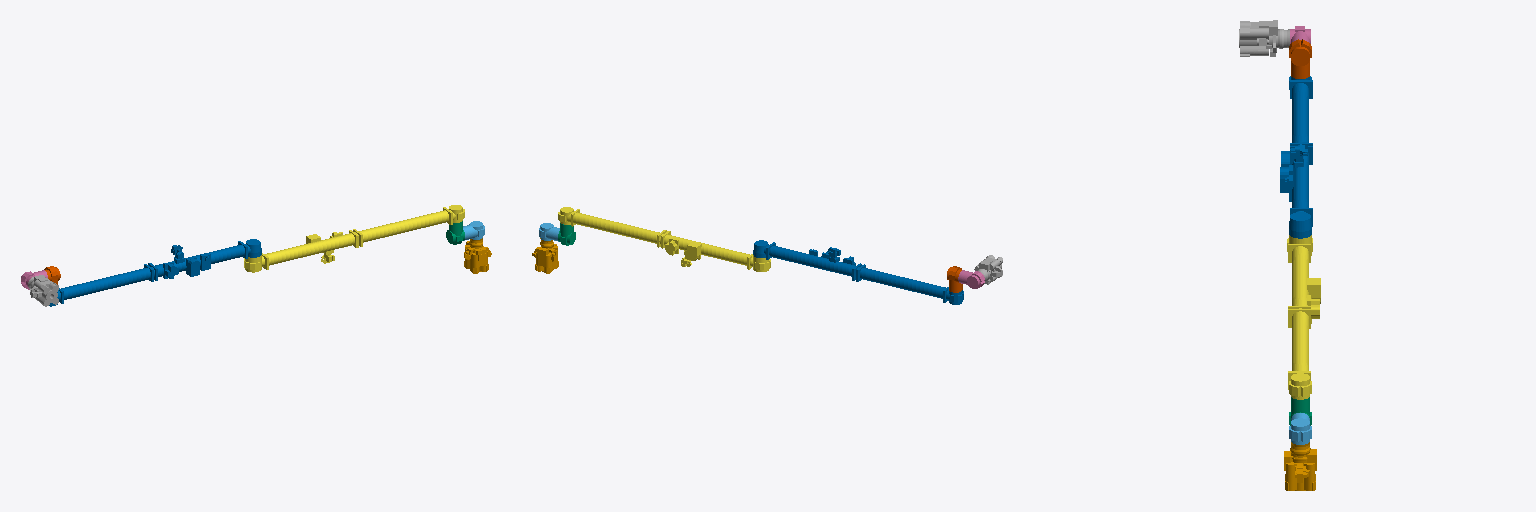
URDF robot description (CanadaArm2):
<?xml version="1.0" ?>
<robot name="CanadaArm2">

<!-- <material name="silver">
  <color rgba="0.700 0.700 0.700 1.000"/>
</material> -->

<link name="base_link">
  <inertial>
    <origin xyz="0.0009130959925412204 0.0006901136348603008 0.048208102763051236" rpy="0 0 0"/>
    <mass value="0.4237059895243373"/>
    <inertia ixx="0.0004092558945447719" iyy="0.00038404682501675465" izz="0.00020498064476976336" ixy="1.0165623829686665e-06" iyz="-4.948051807267175e-06" ixz="5.252636199371172e-06"/>
  </inertial>
  <visual>
    <origin xyz="0 0 0" rpy="0 0 0"/>
    <geometry>
      <mesh filename="meshes/base_link.obj" scale="0.001 0.001 0.001"/>
    </geometry>
    <!-- <material name="silver"/>
    <material/> -->
  </visual>
  <collision>
    <origin xyz="0 0 0" rpy="0 0 0"/>
    <geometry>
      <mesh filename="meshes/base_link.obj" scale="0.001 0.001 0.001"/>
    </geometry>
  </collision>
</link>

<link name="link_11">
  <inertial>
    <origin xyz="-0.012022080753456956 4.504438460746928e-06 0.021223287586985842" rpy="0 0 0"/>
    <mass value="0.15579058238581803"/>
    <inertia ixx="3.953363265274531e-05" iyy="8.371424973176991e-05" izz="8.6186782326062e-05" ixy="-1.0861613912698858e-07" iyz="4.379138446979421e-08" ixz="1.0201639682170562e-07"/>
  </inertial>
  <visual>
    <origin xyz="0.0 0.0 -0.109328" rpy="0 0 0"/>
    <geometry>
      <mesh filename="meshes/link_11.obj" scale="0.001 0.001 0.001"/>
    </geometry>
    <!-- <material name="silver"/>
    <material/> -->
  </visual>
  <collision>
    <origin xyz="0.0 0.0 -0.109328" rpy="0 0 0"/>
    <geometry>
      <mesh filename="meshes/link_11.obj" scale="0.001 0.001 0.001"/>
    </geometry>
  </collision>
</link>

<link name="link_21">
  <inertial>
    <origin xyz="-0.0212722329621534 -9.563785822951881e-07 0.012022116937095928" rpy="0 0 0"/>
    <mass value="0.15579021759009612"/>
    <inertia ixx="8.648943169675899e-05" iyy="8.429241934648085e-05" izz="3.9871128569710134e-05" ixy="1.9888566181498303e-08" iyz="4.4424194576562314e-09" ixz="-1.110155253675714e-07"/>
  </inertial>
  <visual>
    <origin xyz="0.050762 0.0 -0.130583" rpy="0 0 0"/>
    <geometry>
      <mesh filename="meshes/link_21.obj" scale="0.001 0.001 0.001"/>
    </geometry>
    <!-- <material name="silver"/>
    <material/> -->
  </visual>
  <collision>
    <origin xyz="0.050762 0.0 -0.130583" rpy="0 0 0"/>
    <geometry>
      <mesh filename="meshes/link_21.obj" scale="0.001 0.001 0.001"/>
    </geometry>
  </collision>
</link>

<link name="link_31">
  <inertial>
    <origin xyz="-0.3749592721242768 0.002167756136316175 0.020769052806213523" rpy="0 0 0"/>
    <mass value="1.342026213015195"/>
    <inertia ixx="0.0002589122773568181" iyy="0.06733252361597064" izz="0.06717431030885213" ixy="0.00018694044664734608" iyz="4.2211290964140266e-05" ixz="0.00020571069959553212"/>
  </inertial>
  <visual>
    <origin xyz="0.072005 0.0 -0.181344" rpy="0 0 0"/>
    <geometry>
      <mesh filename="meshes/link_31.obj" scale="0.001 0.001 0.001"/>
    </geometry>
    <!-- <material name="silver"/>
    <material/> -->
  </visual>
  <collision>
    <origin xyz="0.072005 0.0 -0.181344" rpy="0 0 0"/>
    <geometry>
      <mesh filename="meshes/link_31.obj" scale="0.001 0.001 0.001"/>
    </geometry>
  </collision>
</link>

<link name="link_41">
  <inertial>
    <origin xyz="-0.34102429216742425 -0.0024875618163693954 0.022823592324091285" rpy="0 0 0"/>
    <mass value="1.3047791025053486"/>
    <inertia ixx="0.0005005819746586454" iyy="0.06098802088277111" izz="0.06111706243026238" ixy="0.0003290206609817877" iyz="-1.2463562465362039e-05" ixz="-7.483793257567761e-05"/>
  </inertial>
  <visual>
    <origin xyz="0.775703 -1.6e-05 -0.232005" rpy="0 0 0"/>
    <geometry>
      <mesh filename="meshes/link_41.obj" scale="0.001 0.001 0.001"/>
    </geometry>
    <!-- <material name="silver"/>
    <material/> -->
  </visual>
  <collision>
    <origin xyz="0.775703 -1.6e-05 -0.232005" rpy="0 0 0"/>
    <geometry>
      <mesh filename="meshes/link_41.obj" scale="0.001 0.001 0.001"/>
    </geometry>
  </collision>
</link>

<link name="link_51">
  <inertial>
    <origin xyz="2.9454009316642882e-05 -5.2291701487376e-06 0.0387351142341712" rpy="0 0 0"/>
    <mass value="0.15576553227829482"/>
    <inertia ixx="8.227001568061366e-05" iyy="7.603788598981032e-05" izz="3.561108290406345e-05" ixy="2.1739266745471905e-07" iyz="5.310540229706253e-07" ixz="-7.962361346647295e-08"/>
  </inertial>
  <visual>
    <origin xyz="1.479425 -1.6e-05 -0.274942" rpy="0 0 0"/>
    <geometry>
      <mesh filename="meshes/link_51.obj" scale="0.001 0.001 0.001"/>
    </geometry>
    <!-- <material name="silver"/>
    <material/> -->
  </visual>
  <collision>
    <origin xyz="1.479425 -1.6e-05 -0.274942" rpy="0 0 0"/>
    <geometry>
      <mesh filename="meshes/link_51.obj" scale="0.001 0.001 0.001"/>
    </geometry>
  </collision>
</link>

<link name="link_61">
  <inertial>
    <origin xyz="-0.03871469375007819 4.616231212433191e-05 2.3531261986620144e-05" rpy="0 0 0"/>
    <mass value="0.15575461112408165"/>
    <inertia ixx="6.80786724601562e-05" iyy="0.00013769812830949357" izz="0.00011250739279045074" ixy="-4.997630556600001e-06" iyz="-4.777732048404048e-06" ixz="-1.2882027089627934e-06"/>
  </inertial>
  <visual>
    <origin xyz="1.500669 -1.6e-05 -0.325704" rpy="0 0 0"/>
    <geometry>
      <mesh filename="meshes/link_61.obj" scale="0.001 0.001 0.001"/>
    </geometry>
    <!-- <material name="silver"/>
    <material/> -->
  </visual>
  <collision>
    <origin xyz="1.500669 -1.6e-05 -0.325704" rpy="0 0 0"/>
    <geometry>
      <mesh filename="meshes/link_61.obj" scale="0.001 0.001 0.001"/>
    </geometry>
  </collision>
</link>

<link name="link_71">
  <inertial>
    <origin xyz="-0.0009163908926697051 -0.06112025146618943 0.000688272549077884" rpy="0 0 0"/>
    <mass value="0.4237362876419118"/>
    <inertia ixx="0.0004086266635229194" iyy="0.00020387938058230581" izz="0.0003835310833186778" ixy="-5.194200628555468e-06" iyz="-4.93113862320288e-06" ixz="-1.0191638754875054e-06"/>
  </inertial>
  <visual>
    <origin xyz="1.55143 0.021239 -0.325704" rpy="0 0 0"/>
    <geometry>
      <mesh filename="meshes/link_71.obj" scale="0.001 0.001 0.001"/>
    </geometry>
    <!-- <material name="silver"/>
    <material/> -->
  </visual>
  <collision>
    <origin xyz="1.55143 0.021239 -0.325704" rpy="0 0 0"/>
    <geometry>
      <mesh filename="meshes/link_71.obj" scale="0.001 0.001 0.001"/>
    </geometry>
  </collision>
</link>

<joint name="joint_1" type="revolute">
  <origin xyz="0.0 0.0 0.109328" rpy="0 0 0"/>
  <parent link="base_link"/>
  <child link="link_11"/>
  <axis xyz="-0.0 0.0 -1.0"/>
  <limit upper="6.283185" lower="0.0" effort="100" velocity="100"/>
</joint>
<transmission name="joint_1_tran">
  <type>transmission_interface/SimpleTransmission</type>
  <joint name="joint_1">
    <hardwareInterface>PositionJointInterface</hardwareInterface>
  </joint>
  <actuator name="joint_1_actr">
    <hardwareInterface>PositionJointInterface</hardwareInterface>
    <mechanicalReduction>1</mechanicalReduction>
  </actuator>
</transmission>

<joint name="joint_2" type="revolute">
  <origin xyz="-0.050762 0.0 0.021255" rpy="0 0 0"/>
  <parent link="link_11"/>
  <child link="link_21"/>
  <axis xyz="-1.0 0.0 0.0"/>
  <limit upper="6.283185" lower="0.0" effort="100" velocity="100"/>
</joint>
<transmission name="joint_2_tran">
  <type>transmission_interface/SimpleTransmission</type>
  <joint name="joint_2">
    <hardwareInterface>PositionJointInterface</hardwareInterface>
  </joint>
  <actuator name="joint_2_actr">
    <hardwareInterface>PositionJointInterface</hardwareInterface>
    <mechanicalReduction>1</mechanicalReduction>
  </actuator>
</transmission>

<joint name="joint_3" type="revolute">
  <origin xyz="-0.021243 0.0 0.050761" rpy="0 0 0"/>
  <parent link="link_21"/>
  <child link="link_31"/>
  <axis xyz="0.0 0.0 1.0"/>
  <limit upper="6.283185" lower="0.0" effort="100" velocity="100"/>
</joint>
<transmission name="joint_3_tran">
  <type>transmission_interface/SimpleTransmission</type>
  <joint name="joint_3">
    <hardwareInterface>PositionJointInterface</hardwareInterface>
  </joint>
  <actuator name="joint_3_actr">
    <hardwareInterface>PositionJointInterface</hardwareInterface>
    <mechanicalReduction>1</mechanicalReduction>
  </actuator>
</transmission>

<joint name="joint_4" type="revolute">
  <origin xyz="-0.703698 1.6e-05 0.050661" rpy="0 0 0"/>
  <parent link="link_31"/>
  <child link="link_41"/>
  <axis xyz="0.0 0.0 1.0"/>
  <limit upper="6.283185" lower="0.0" effort="100" velocity="100"/>
</joint>
<transmission name="joint_4_tran">
  <type>transmission_interface/SimpleTransmission</type>
  <joint name="joint_4">
    <hardwareInterface>PositionJointInterface</hardwareInterface>
  </joint>
  <actuator name="joint_4_actr">
    <hardwareInterface>PositionJointInterface</hardwareInterface>
    <mechanicalReduction>1</mechanicalReduction>
  </actuator>
</transmission>

<joint name="joint_5" type="revolute">
  <origin xyz="-0.703722 0.0 0.042937" rpy="0 0 0"/>
  <parent link="link_41"/>
  <child link="link_51"/>
  <axis xyz="-0.0 0.0 1.0"/>
  <limit upper="6.283185" lower="0.0" effort="100" velocity="100"/>
</joint>
<transmission name="joint_5_tran">
  <type>transmission_interface/SimpleTransmission</type>
  <joint name="joint_5">
    <hardwareInterface>PositionJointInterface</hardwareInterface>
  </joint>
  <actuator name="joint_5_actr">
    <hardwareInterface>PositionJointInterface</hardwareInterface>
    <mechanicalReduction>1</mechanicalReduction>
  </actuator>
</transmission>

<joint name="joint_6" type="revolute">
  <origin xyz="-0.021244 0.0 0.050762" rpy="0 0 0"/>
  <parent link="link_51"/>
  <child link="link_61"/>
  <axis xyz="-1.0 -0.0 0.0"/>
  <limit upper="6.283185" lower="0.0" effort="100" velocity="100"/>
</joint>
<transmission name="joint_6_tran">
  <type>transmission_interface/SimpleTransmission</type>
  <joint name="joint_6">
    <hardwareInterface>PositionJointInterface</hardwareInterface>
  </joint>
  <actuator name="joint_6_actr">
    <hardwareInterface>PositionJointInterface</hardwareInterface>
    <mechanicalReduction>1</mechanicalReduction>
  </actuator>
</transmission>

<joint name="joint_7" type="revolute">
  <origin xyz="-0.050761 -0.021255 0.0" rpy="0 0 0"/>
  <parent link="link_61"/>
  <child link="link_71"/>
  <axis xyz="0.0 -1.0 0.0"/>
  <limit upper="6.283185" lower="0.0" effort="100" velocity="100"/>
</joint>
<transmission name="joint_7_tran">
  <type>transmission_interface/SimpleTransmission</type>
  <joint name="joint_7">
    <hardwareInterface>PositionJointInterface</hardwareInterface>
  </joint>
  <actuator name="joint_7_actr">
    <hardwareInterface>PositionJointInterface</hardwareInterface>
    <mechanicalReduction>1</mechanicalReduction>
  </actuator>
</transmission>

</robot>

--- Facts derived from the render (not from the file) ---
The picture shows the robot from 3 angles, left to right: view 1: azimuth 30°, elevation 25°; view 2: azimuth 150°, elevation 25°; view 3: azimuth 270°, elevation 25°; orthographic projection.
Robot: CanadaArm2 — 8 links, 7 joints (7 revolute); root link base_link; default pose: every joint at zero.
Links seen in each view (by area): view 1: link_31, link_41, base_link, link_71; view 2: link_31, link_41, base_link, link_71; view 3: link_31, link_41, link_71, base_link, link_51, link_11.
Boxes of the visible links, x1=… form: link_31: x1=244, y1=205, x2=464, y2=272; link_41: x1=49, y1=239, x2=261, y2=306; base_link: x1=464, y1=238, x2=491, y2=273; link_71: x1=28, y1=275, x2=58, y2=306; link_31: x1=558, y1=207, x2=770, y2=271; link_41: x1=753, y1=240, x2=963, y2=304; base_link: x1=532, y1=238, x2=558, y2=273; link_71: x1=974, y1=255, x2=1002, y2=284; link_31: x1=1287, y1=235, x2=1320, y2=399; link_41: x1=1280, y1=76, x2=1312, y2=238; link_71: x1=1239, y1=20, x2=1289, y2=56; base_link: x1=1284, y1=442, x2=1316, y2=490; link_51: x1=1289, y1=39, x2=1311, y2=78; link_11: x1=1289, y1=413, x2=1311, y2=444.
Size in the robot's own frame: 1.64 by 0.1743 by 0.3617 metres.
8 mesh visuals loaded from 8 distinct referenced files (8 OBJ).